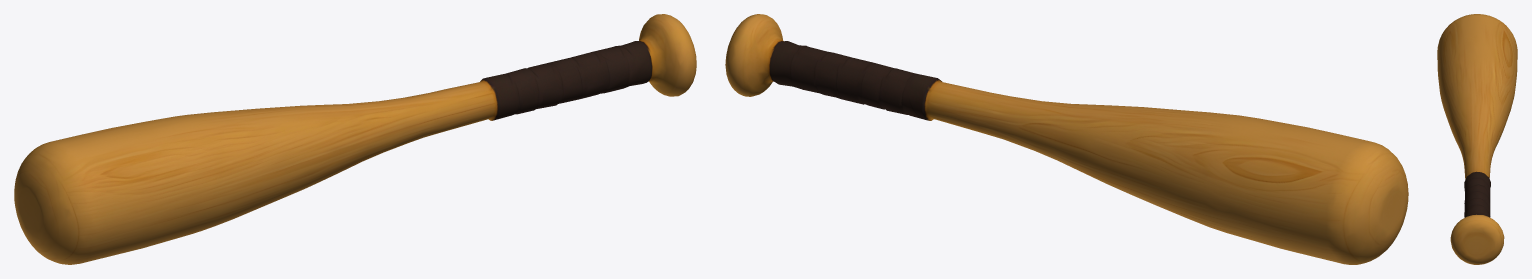
Rendered from bat.glb.
The picture shows the model from 3 angles, left to right: view 1: azimuth 30°, elevation 25°; view 2: azimuth 150°, elevation 25°; view 3: azimuth 270°, elevation 25°; orthographic projection. The views are drawn at different scales.
Visible parts, largest first — view 1: tripo_node_5348cf3d-5393-44ae-8984-d486d7c9d849; view 2: tripo_node_5348cf3d-5393-44ae-8984-d486d7c9d849; view 3: tripo_node_5348cf3d-5393-44ae-8984-d486d7c9d849.
Part boxes in pixels (x1,y1,x2,y2): tripo_node_5348cf3d-5393-44ae-8984-d486d7c9d849: (14,14,696,264); tripo_node_5348cf3d-5393-44ae-8984-d486d7c9d849: (725,14,1408,264); tripo_node_5348cf3d-5393-44ae-8984-d486d7c9d849: (1437,14,1517,264).
Bounding box in the file's own units: 1 × 0.1664 × 0.1671.
1 material, 1 textured.
